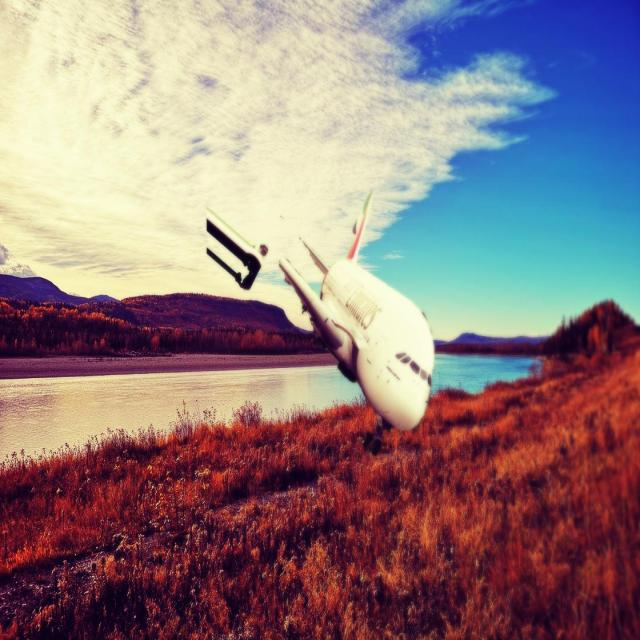airplane: (205, 188, 435, 432)
